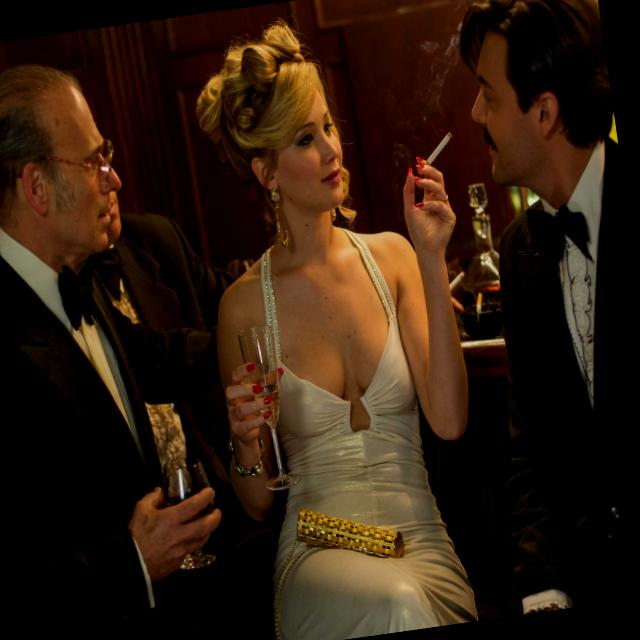cigarette: (426, 126, 458, 160)
